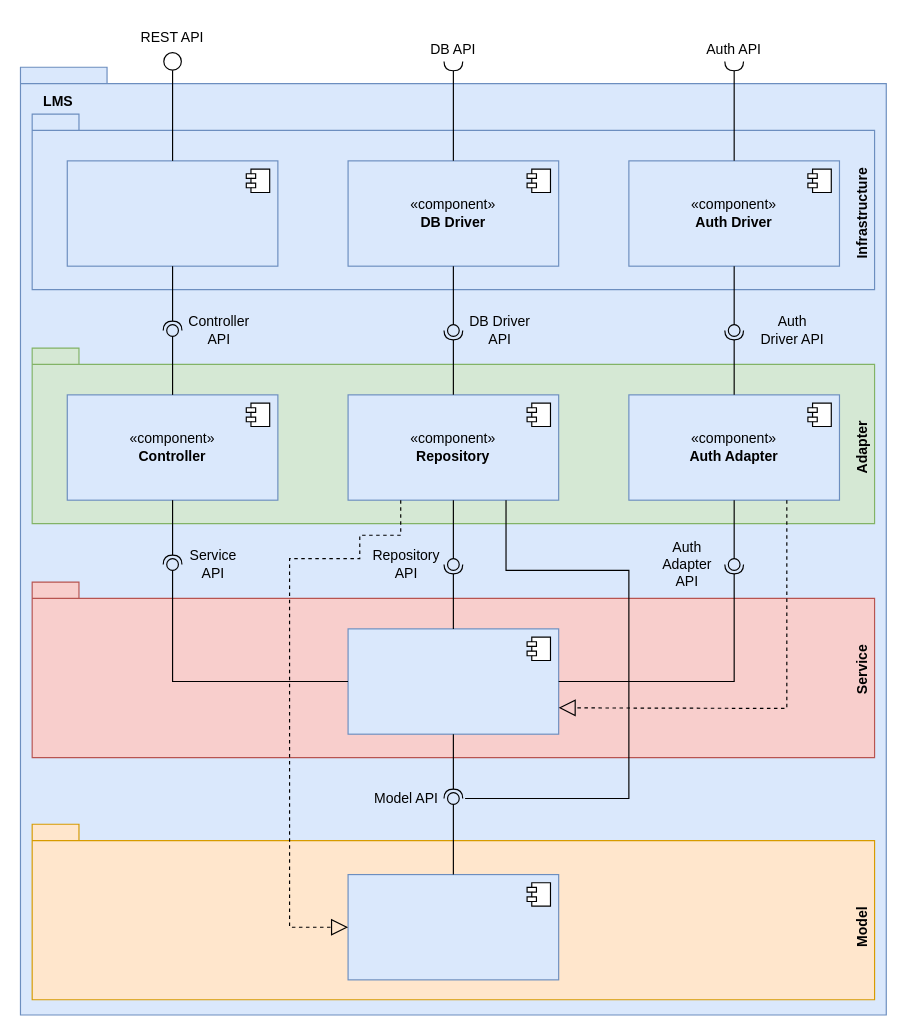
The diagram is 907 pixels wide and 1035 high, and some of its shapes have lost their labels. The shapes that lost their labels are listed below. From the top down, each one's centre as x and y in pixels, then its label:
At pixel 172 213: "«component» Router".
At pixel 453 681: "«component» Service".
At pixel 453 926: "«component» Model".
